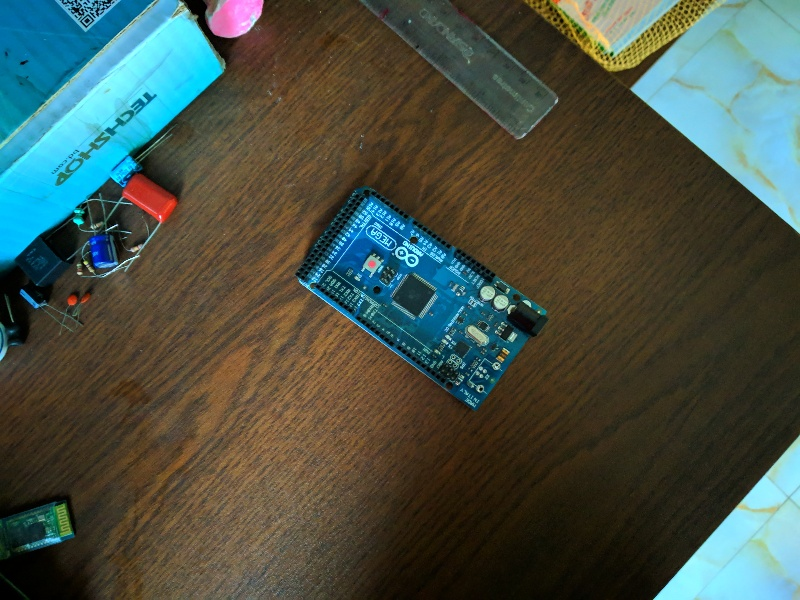Arduino Mega 2560: (289, 180, 552, 416)
